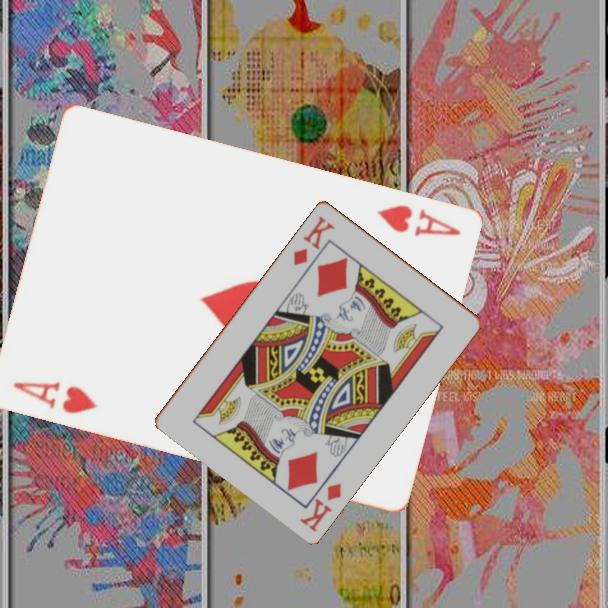d13: (290, 212, 338, 268), (296, 479, 344, 535)
h01: (8, 378, 100, 417), (373, 201, 463, 240)
